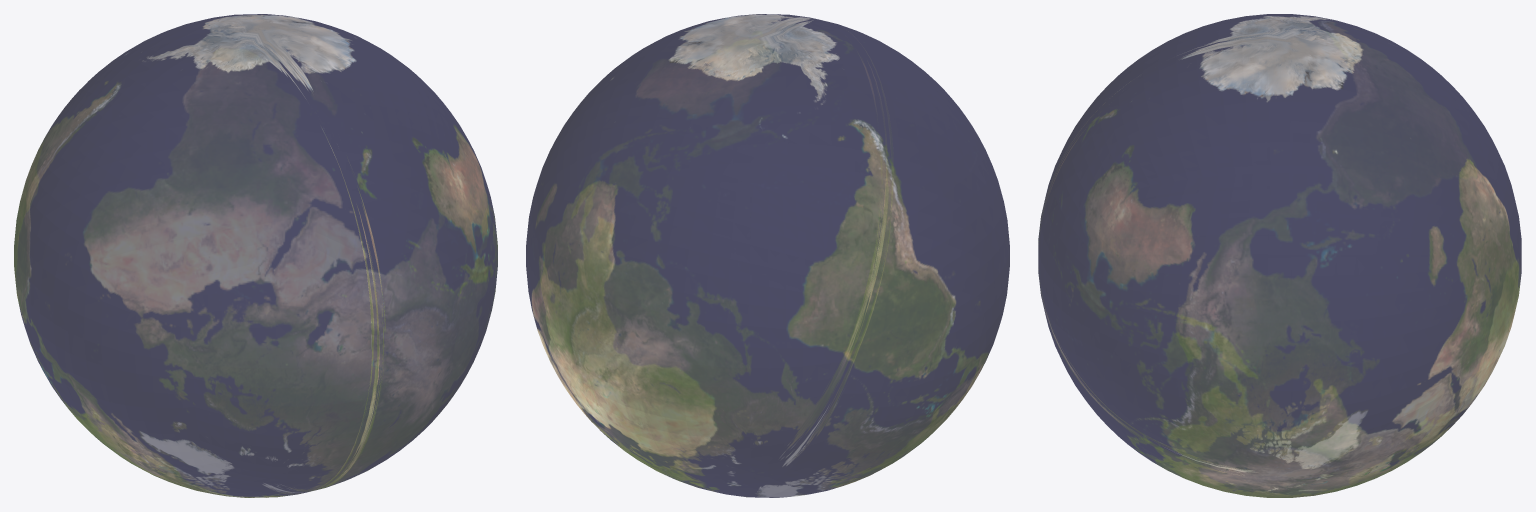
File: test_sphere_texture.obj
3 views of the same model, side by side, from view 1: azimuth 30°, elevation 25°; view 2: azimuth 150°, elevation 25°; view 3: azimuth 270°, elevation 25° (orthographic).
Visible parts, largest first — view 1: globe; view 2: globe; view 3: globe.
Part boxes in pixels (<box>): globe: <box>14,14,497,497</box>; globe: <box>526,14,1009,497</box>; globe: <box>1038,14,1521,497</box>.
Size of the model in its own units: 1.99 by 1.99 by 1.99.
Materials: 1 (1 with a texture image).
